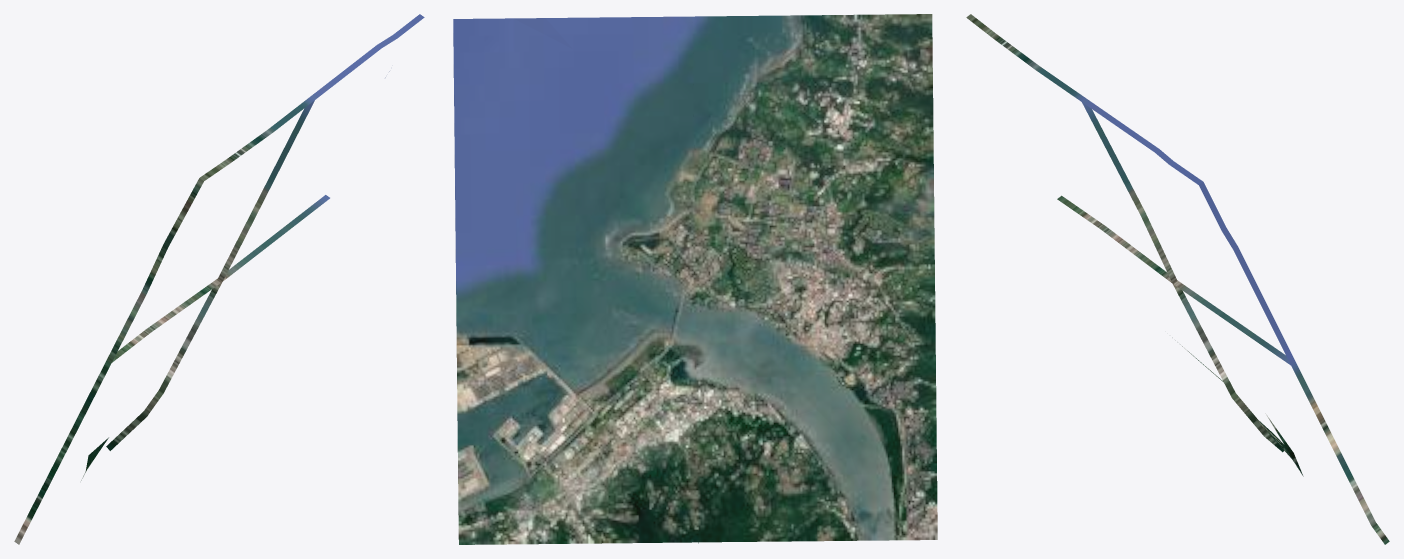
The picture shows the model from 3 angles, left to right: view 1: azimuth 30°, elevation 25°; view 2: azimuth 150°, elevation 25°; view 3: azimuth 270°, elevation 25°; orthographic projection. The views are drawn at different scales.
Size of the model in its own units: 9865 by 8921 by 8272.
1 material, 1 textured.
